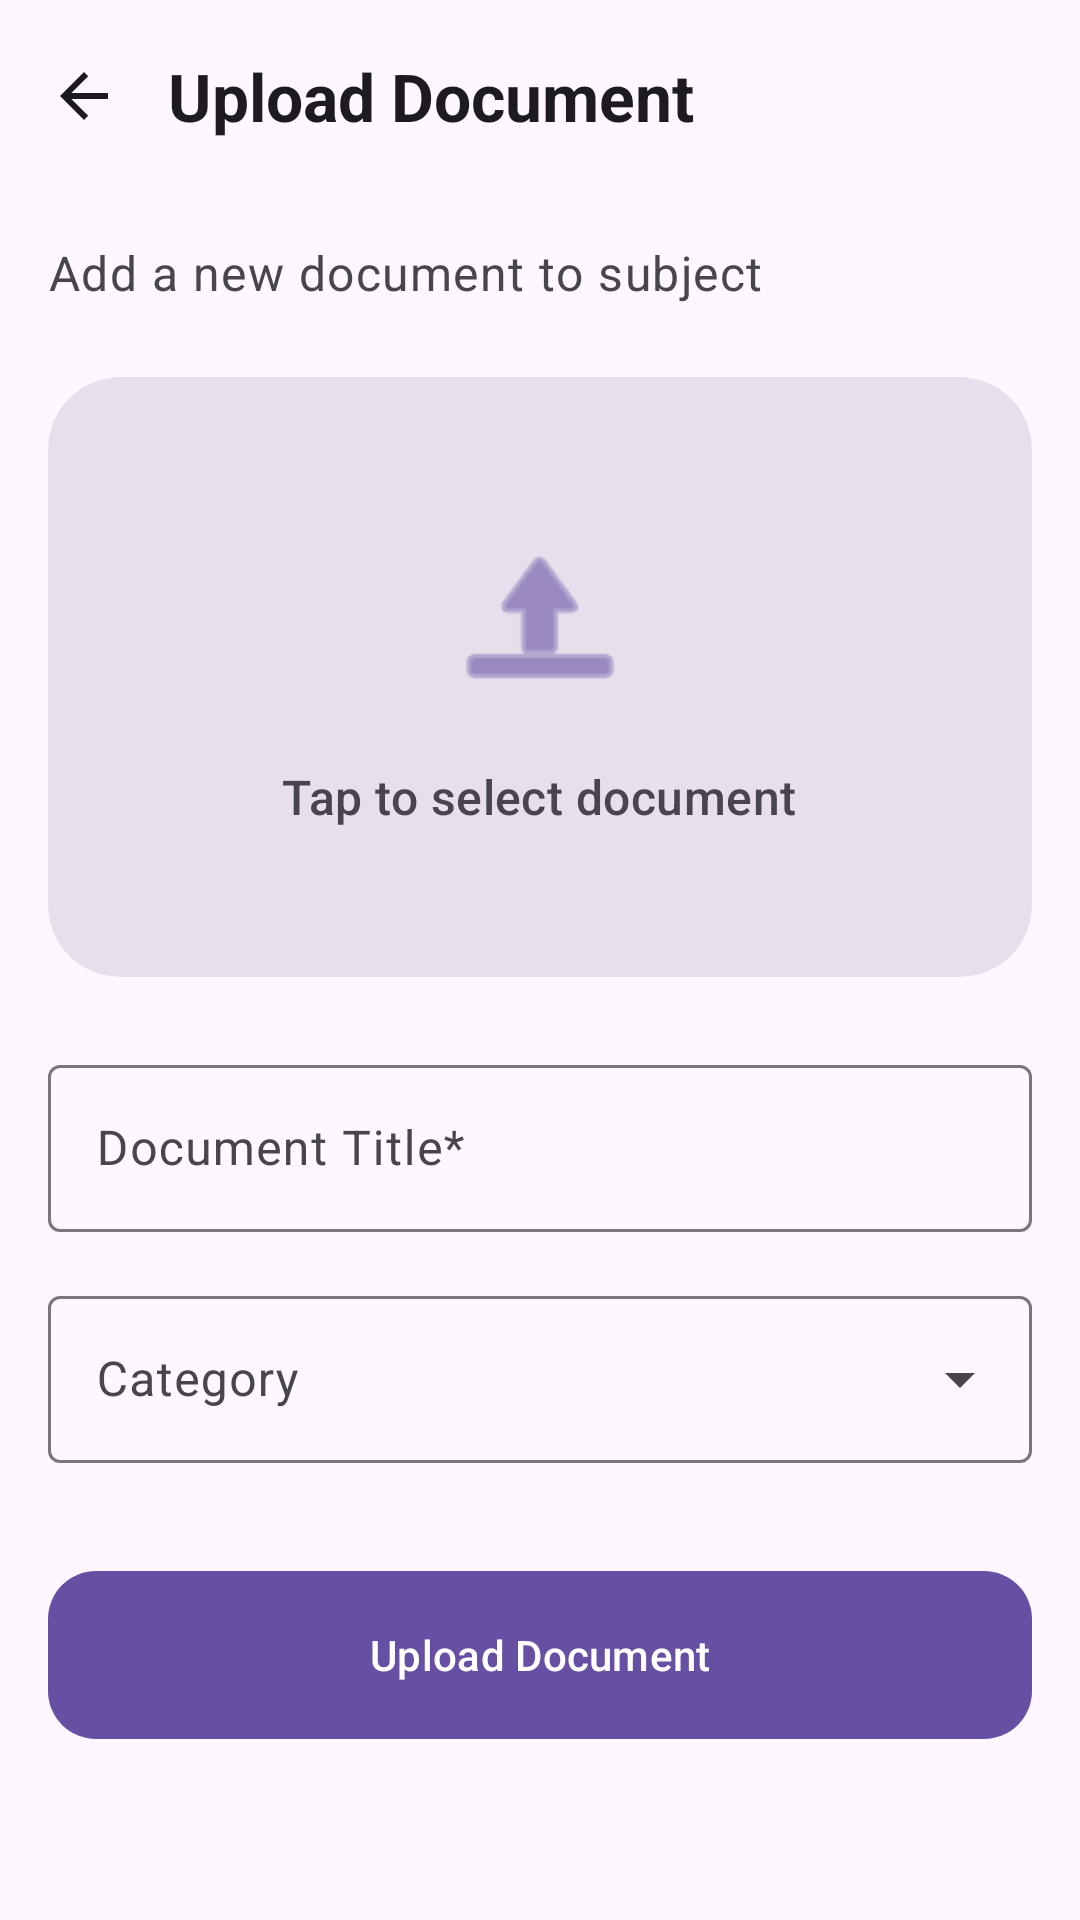

Icons on this 1080 x 1920 Android screen, each with its box as (x1, y1, x2, y2):
upload: (466, 557, 614, 678)
